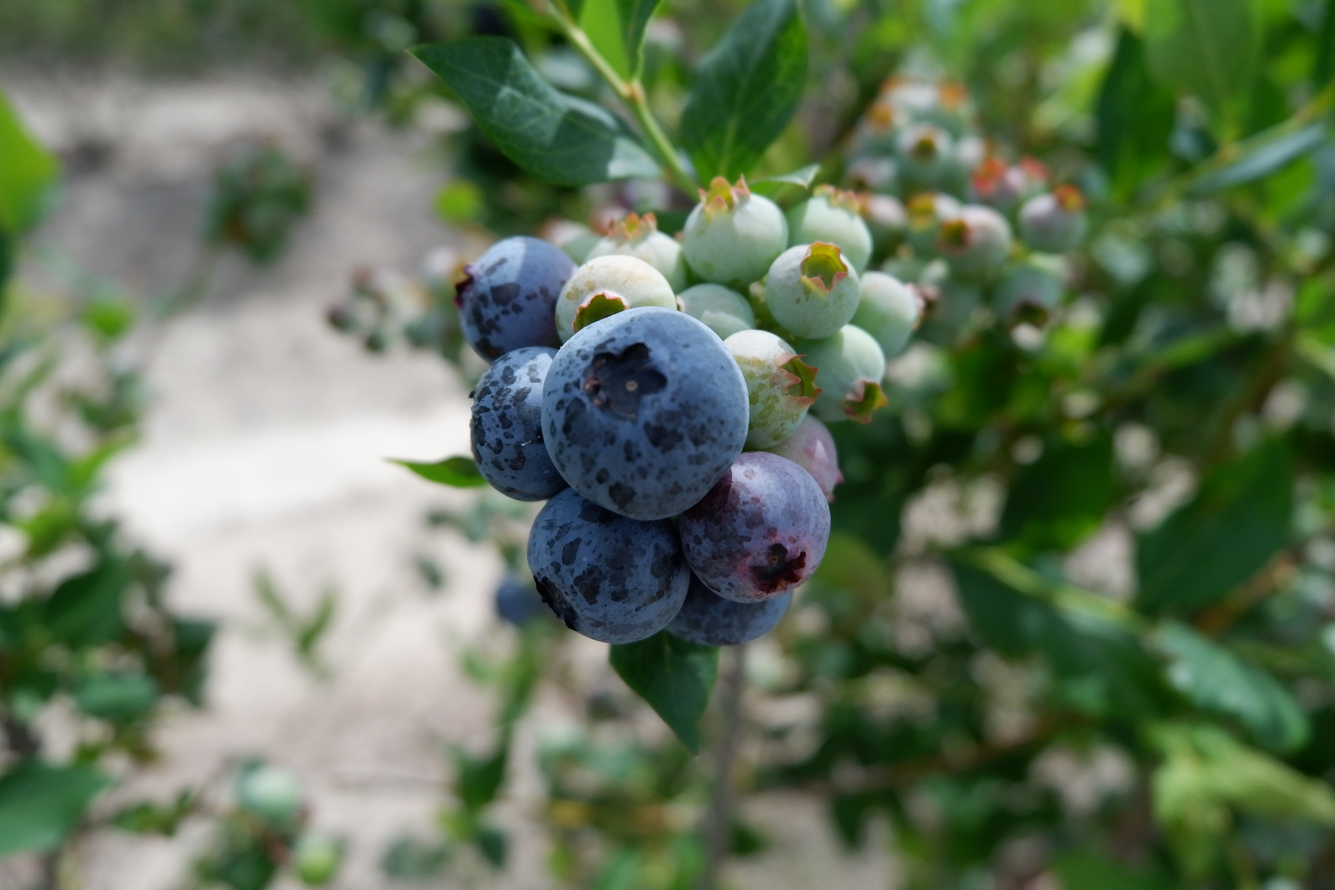Immature: (683, 180, 786, 286), (726, 330, 818, 447), (559, 256, 676, 339), (765, 243, 859, 339), (802, 326, 884, 420), (588, 213, 687, 282), (790, 193, 870, 266), (857, 275, 928, 355), (769, 417, 838, 495), (680, 285, 753, 338)
Mature: (546, 311, 747, 513), (531, 492, 684, 638), (679, 455, 827, 599), (456, 238, 573, 359), (468, 352, 563, 498), (670, 574, 789, 645)
